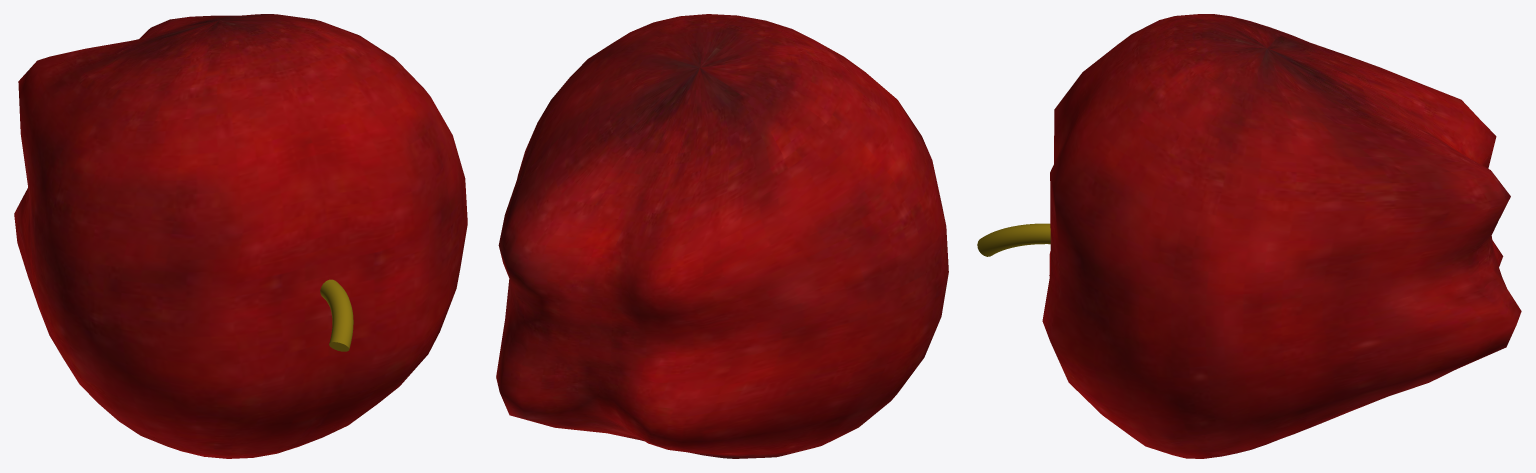
Rendered from Apple.obj.
3 views of the same model, side by side, from view 1: azimuth 30°, elevation 25°; view 2: azimuth 150°, elevation 25°; view 3: azimuth 270°, elevation 25° (orthographic). The views are drawn at different scales.
Parts seen in each view (by area): view 1: Sphere01, stem; view 2: Sphere01; view 3: Sphere01, stem.
Part boxes in pixels (<box>): Sphere01: <box>14,14,467,458</box>; stem: <box>320,279,353,351</box>; Sphere01: <box>496,14,948,458</box>; Sphere01: <box>1042,14,1521,458</box>; stem: <box>977,223,1050,256</box>.
Size of the model in its own units: 21.39 by 21.5 by 26.27.
2 materials, 1 textured.
